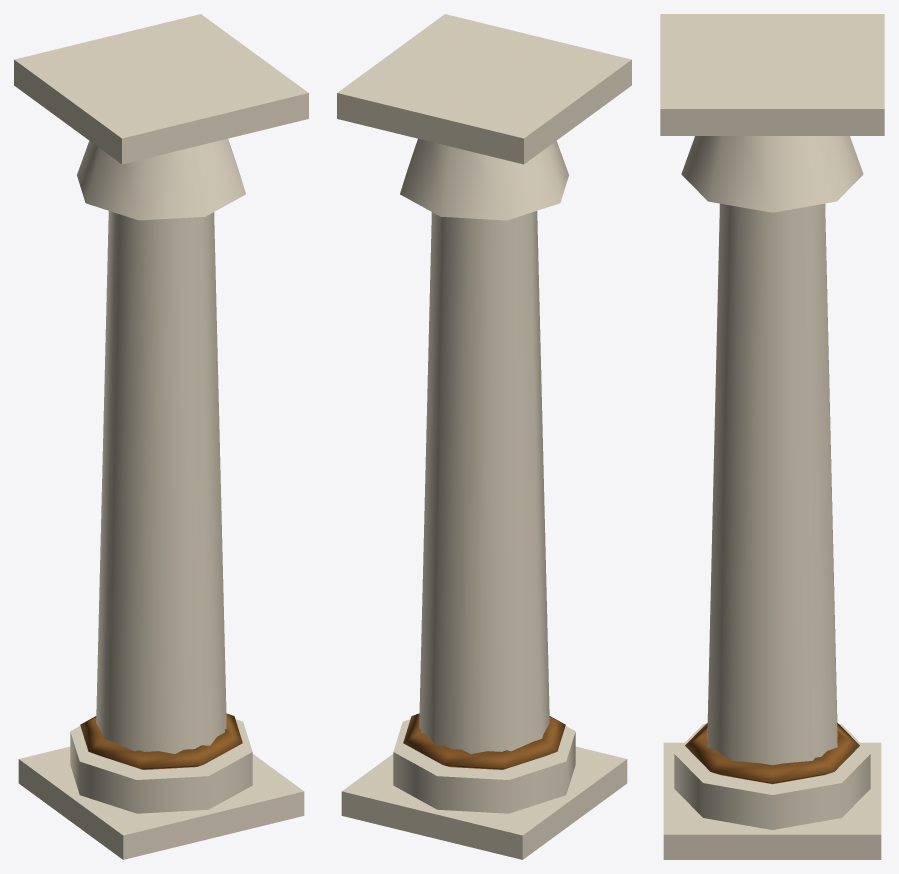
The model's file is column_corinthian_garden_LOD2.glb.
3 renders of one model, left to right at view 1: azimuth 30°, elevation 25°; view 2: azimuth 150°, elevation 25°; view 3: azimuth 270°, elevation 25°, orthographic. The views are drawn at different scales.
Parts seen in each view (by area): view 1: column_corinthian_garden_LOD2; view 2: column_corinthian_garden_LOD2; view 3: column_corinthian_garden_LOD2.
Part boxes in pixels (x1,y1,x2,y2): column_corinthian_garden_LOD2: (14,14,308,859); column_corinthian_garden_LOD2: (337,14,631,859); column_corinthian_garden_LOD2: (660,14,884,859).
Bounding box in the file's own units: 1.28 × 4.74 × 1.28.
